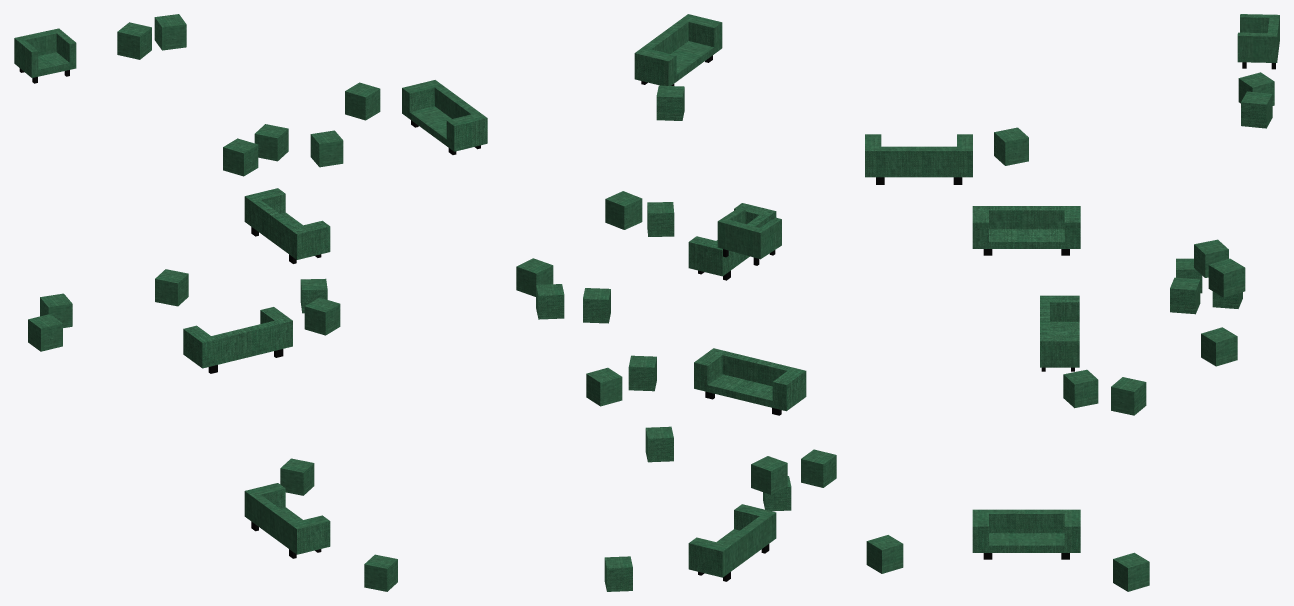
The model's file is canape.glb.
3 views of the same model, side by side, from view 1: azimuth 30°, elevation 25°; view 2: azimuth 150°, elevation 25°; view 3: azimuth 270°, elevation 25° (orthographic). The views are drawn at different scales.
Parts seen in each view (by area): view 1: pCube12.005, pCube12.001, pCube12.002, pCube12.003, pCube12.008, pCube13.002, pCube13.006, pCube13.010, pCube13.017, pCube13, pCube13.001, pCube13.004 (+6 smaller); view 2: pCube12.001, pCube12.005, pCube12.002, pCube12.008, pCube12.003, pCube13.019, pCube13.003, pCube13.012, pCube13, pCube13.013, pCube13.007, pCube13.001 (+6 smaller); view 3: pCube12.002, pCube12.003, pCube12.005, pCube12.001, pCube12.008, pCube13.005, pCube13.004, pCube13.001, pCube13.007, pCube13.002, pCube13.012, pCube13.010 (+4 smaller).
Part boxes in pixels (x1,y1,x2,y2): pCube12.005: (402, 80, 487, 154); pCube12.001: (183, 307, 292, 373); pCube12.002: (244, 483, 330, 558); pCube12.003: (244, 188, 330, 263); pCube12.008: (14, 28, 76, 83); pCube13.002: (304, 297, 340, 335); pCube13.006: (223, 138, 258, 176); pCube13.010: (345, 82, 380, 120); pCube13.017: (117, 22, 151, 59); pCube13: (28, 314, 62, 351); pCube13.001: (155, 269, 188, 306); pCube13.004: (364, 554, 397, 591); pCube12.001: (694, 348, 806, 415); pCube12.005: (634, 14, 722, 85); pCube12.002: (688, 504, 776, 581); pCube12.008: (717, 207, 781, 265); pCube12.003: (688, 203, 776, 280); pCube13.019: (605, 191, 642, 229); pCube13.003: (751, 456, 787, 494); pCube13.012: (586, 367, 622, 406); pCube13: (801, 449, 836, 487); pCube13.013: (516, 258, 553, 296); pCube13.007: (604, 556, 632, 591); pCube13.001: (645, 426, 673, 462); pCube12.002: (972, 509, 1080, 559); pCube12.003: (972, 206, 1080, 255); pCube12.005: (865, 134, 972, 184); pCube12.001: (1040, 295, 1079, 371); pCube12.008: (1237, 14, 1279, 69); pCube13.005: (1208, 258, 1245, 297); pCube13.004: (866, 535, 903, 573); pCube13.001: (1201, 327, 1237, 366); pCube13.007: (1113, 552, 1149, 591); pCube13.002: (1063, 369, 1098, 408); pCube13.012: (1111, 377, 1146, 415); pCube13.010: (994, 127, 1028, 165).
Size of what is drawn, in the model's own units: 10.78 by 15.28 by 12.37.
Materials: 2 (1 with a texture image).
